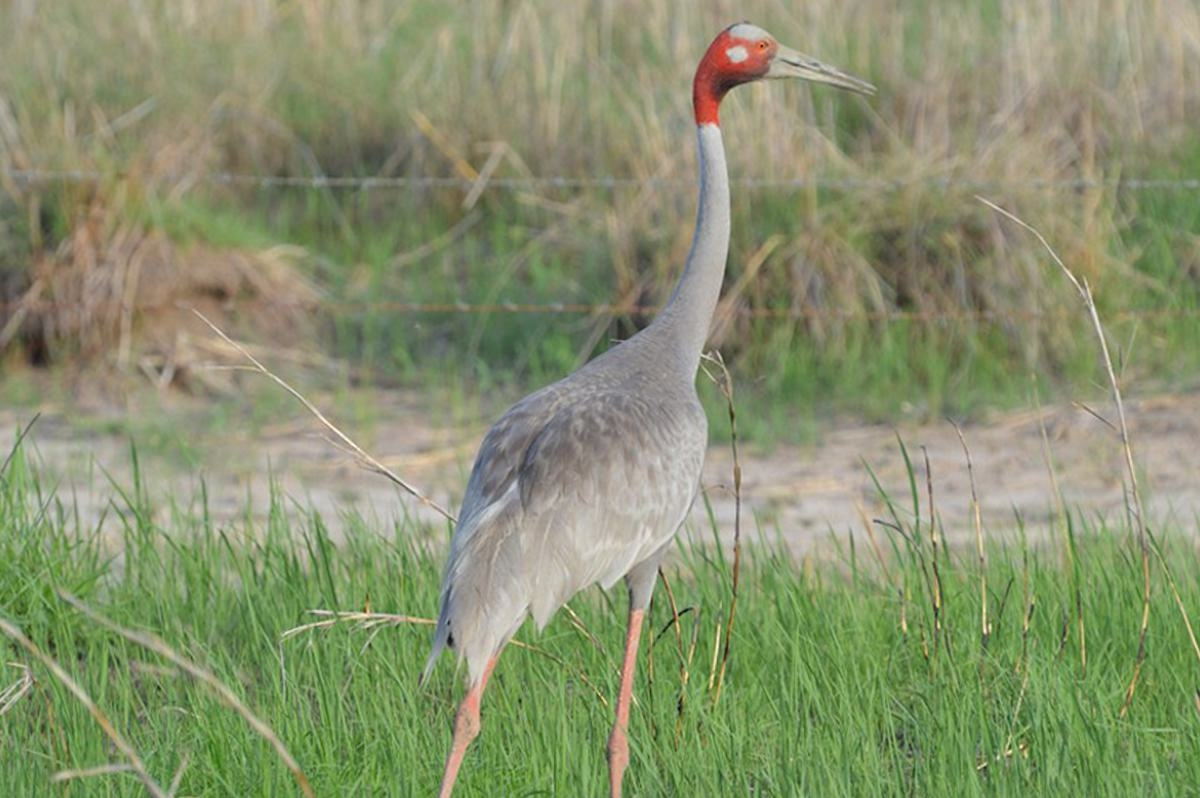crane: (415, 16, 890, 798)
